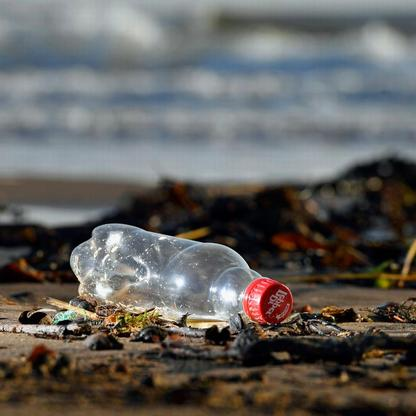plastic bottle: (69, 221, 292, 326)
